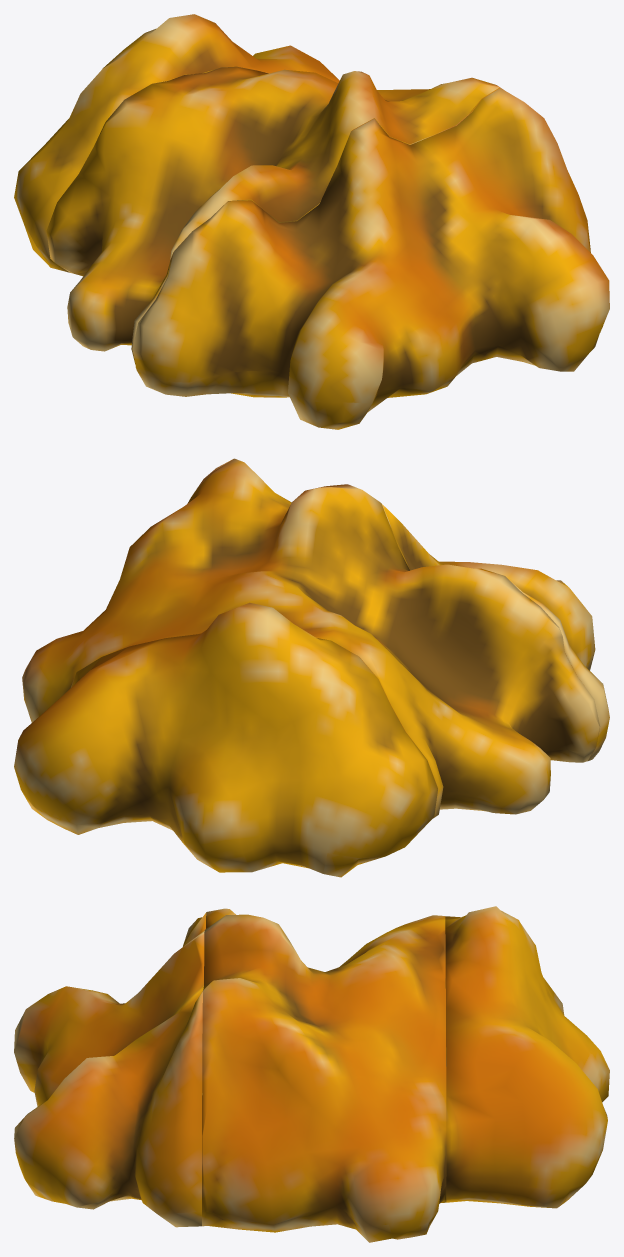
File: SM_WitchesButterSliced.fbx
3 renders of one model, top to bottom at view 1: azimuth 30°, elevation 25°; view 2: azimuth 150°, elevation 25°; view 3: azimuth 270°, elevation 25°, orthographic. The views are drawn at different scales.
Parts seen in each view (by area): view 1: Butter_slice01, Butter_slice02, Butter_slice03; view 2: Butter_slice02, Butter_slice03, Butter_slice01; view 3: Butter_slice02, Butter_slice01, Butter_slice03.
Boxes of the visible parts, box(x1,y1,x2,y2) form: Butter_slice01: box(132, 88, 609, 429); Butter_slice02: box(46, 67, 503, 368); Butter_slice03: box(14, 14, 339, 272); Butter_slice02: box(22, 458, 600, 818); Butter_slice03: box(14, 602, 437, 877); Butter_slice01: box(197, 459, 609, 760); Butter_slice02: box(202, 908, 446, 1242); Butter_slice01: box(14, 912, 206, 1227); Butter_slice03: box(445, 906, 609, 1208).
Bounding box in the file's own units: 20.49 × 10.79 × 22.84.
